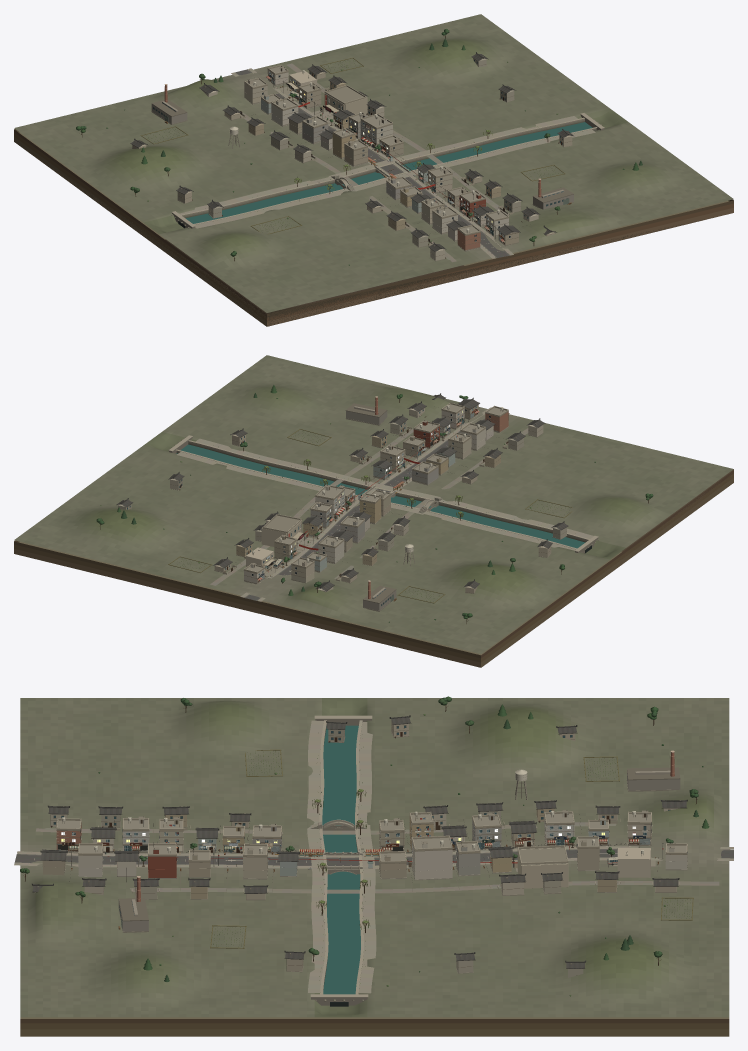
File: town.glb
3 renders of one model, top to bottom at view 1: azimuth 30°, elevation 25°; view 2: azimuth 150°, elevation 25°; view 3: azimuth 270°, elevation 25°, orthographic. The views are drawn at different scales.
Visible parts, largest first — view 1: Town_Matte, Town_Rough, Town_Stone, Water_Canal, Town_Metal; view 2: Town_Matte, Town_Rough, Town_Stone, Water_Canal, Town_Metal; view 3: Town_Matte, Town_Rough, Town_Stone, Water_Canal, Town_Metal, Town_GlassDark.
Part boxes in pixels (box(x1,y1,x2,y2)): Town_Matte: box(14, 14, 733, 326); Town_Rough: box(140, 57, 595, 262); Town_Stone: box(151, 65, 604, 261); Water_Canal: box(186, 122, 592, 223); Town_Metal: box(156, 67, 569, 242); Town_Matte: box(14, 355, 733, 667); Town_Rough: box(168, 397, 593, 603); Town_Stone: box(168, 396, 598, 611); Water_Canal: box(176, 444, 585, 548); Town_Metal: box(251, 405, 503, 604); Town_Matte: box(20, 696, 729, 1036); Town_Rough: box(14, 720, 733, 993); Town_Stone: box(50, 715, 687, 1005); Water_Canal: box(322, 725, 360, 994); Town_Metal: box(57, 769, 670, 927); Town_GlassDark: box(53, 725, 670, 920).
Bounding box in the file's own units: 320 × 26.13 × 305.
Materials: 14 (1 with a texture image).
